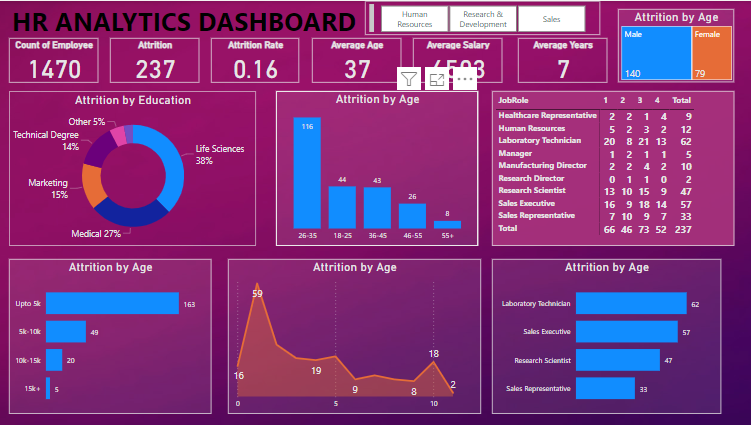

Layout of this report page (visuals, bound fields, positions):
{"tool":"powerbi","page":{"name":"Page 1","canvas":[1280,720],"ordinal":0},"visuals":[{"type":"card","title":"Count of Employee","fields":{"Values":["CountNonNull(HR_Analytics.EmpID)"]},"box":[21.7,61.7,150,75],"z":0},{"type":"card","title":"Average Age","fields":{"Values":["Avg(HR_Analytics.Age)"]},"box":[530,61.7,150,75],"z":1000},{"type":"card","title":"Attrition Rate","fields":{"Values":["HR_Analytics.AttritionRate"]},"box":[361.7,61.7,148.3,75],"z":2000},{"type":"card","title":"Attrition","fields":{"Values":["CountNonNull(HR_Analytics.EmpID)"]},"box":[191.7,61.7,150,75],"z":3000},{"type":"card","title":"Average Salary","fields":{"Values":["Avg(HR_Analytics.MonthlyIncome)"]},"box":[700,61.7,150,75],"z":4000},{"type":"card","title":"Average Years","fields":{"Values":["Avg(HR_Analytics.YearsAtCompany)"]},"box":[876.7,61.7,150,75],"z":5000},{"type":"donutChart","title":"Attrition by Education","fields":{"Category":["HR_Analytics.EducationField"],"Y":["Sum(HR_Analytics.AttritionCount)"]},"box":[21.7,151.7,415,260],"z":6000},{"type":"columnChart","title":"Attrition by Age","fields":{"Category":["HR_Analytics.AgeGroup"],"Y":["Sum(HR_Analytics.AttritionCount)"]},"box":[470,151.7,340,260],"z":7000},{"type":"pivotTable","fields":{"Rows":["HR_Analytics.JobRole"],"Columns":["HR_Analytics.JobSatisfaction"],"Values":["Sum(HR_Analytics.AttritionCount)"]},"box":[833.3,151.7,406.7,260],"z":8000},{"type":"barChart","title":"Attrition by Age","fields":{"Category":["HR_Analytics.SalarySlab"],"Y":["Sum(HR_Analytics.AttritionCount)"]},"box":[21.7,433.3,340,260],"z":9000},{"type":"barChart","title":"Attrition by Age","fields":{"Category":["HR_Analytics.JobRole"],"Y":["Sum(HR_Analytics.AttritionCount)"]},"box":[833.3,433.3,385,260],"z":10000},{"type":"areaChart","title":"Attrition by Age","fields":{"Category":["HR_Analytics.YearsAtCompany"],"Y":["Sum(HR_Analytics.AttritionCount)"]},"box":[390,433.3,425,260],"z":11000},{"type":"treemap","title":"Attrition by Age","fields":{"Group":["HR_Analytics.Gender"],"Values":["Sum(HR_Analytics.AttritionCount)"]},"box":[1045,13.3,195,123.3],"z":12000},{"type":"slicer","fields":{"Values":["HR_Analytics.Department"]},"box":[619.8,0,394.8,57.1],"z":13000},{"type":"textbox","box":[0,0,640,61.7],"z":14000}]}

Visuals, with their boxes in screenshot pixels (x1, y1, x2, y2), scaled from the page's 1280x720 canvas onto the 751x425 screenshot:
"Count of Employee" card: x1=13, y1=36, x2=101, y2=81
"Average Age" card: x1=311, y1=36, x2=399, y2=81
"Attrition Rate" card: x1=212, y1=36, x2=299, y2=81
"Attrition" card: x1=112, y1=36, x2=200, y2=81
"Average Salary" card: x1=411, y1=36, x2=499, y2=81
"Average Years" card: x1=514, y1=36, x2=602, y2=81
"Attrition by Education" donutChart: x1=13, y1=90, x2=256, y2=243
"Attrition by Age" columnChart: x1=276, y1=90, x2=475, y2=243
pivotTable - HR_Analytics.JobRole x HR_Analytics.JobSatisfaction: x1=489, y1=90, x2=728, y2=243
"Attrition by Age" barChart: x1=13, y1=256, x2=212, y2=409
"Attrition by Age" barChart: x1=489, y1=256, x2=715, y2=409
"Attrition by Age" areaChart: x1=229, y1=256, x2=478, y2=409
"Attrition by Age" treemap: x1=613, y1=8, x2=728, y2=81
slicer - HR_Analytics.Department: x1=364, y1=0, x2=595, y2=34
textbox: x1=0, y1=0, x2=376, y2=36
